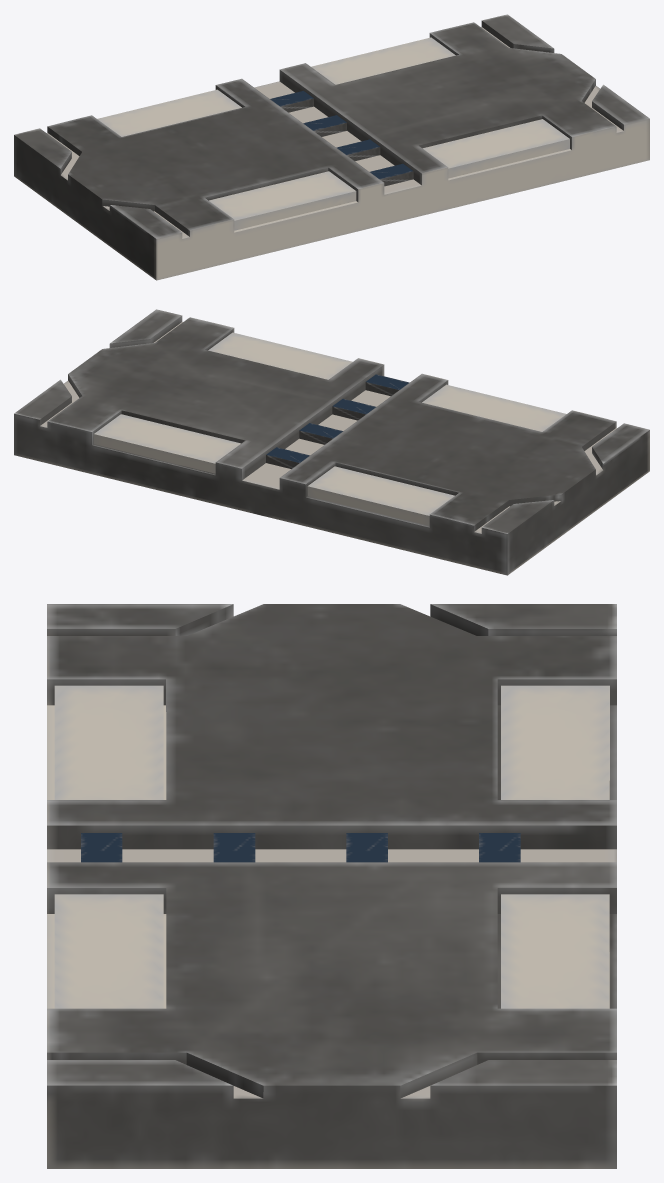
The model's file is FUT0510045.fbx.
3 views of the same model, one above another, from view 1: azimuth 30°, elevation 25°; view 2: azimuth 150°, elevation 25°; view 3: azimuth 270°, elevation 25° (orthographic). The views are drawn at different scales.
Parts seen in each view (by area): view 1: smFUT0510045; view 2: smFUT0510045; view 3: smFUT0510045.
Part boxes in pixels (x1,y1,x2,y2): smFUT0510045: [14, 14, 649, 280]; smFUT0510045: [14, 309, 649, 575]; smFUT0510045: [47, 604, 616, 1168].
Bounding box in the file's own units: 168 × 13.68 × 83.97.
Materials: 1 (1 with a texture image).
